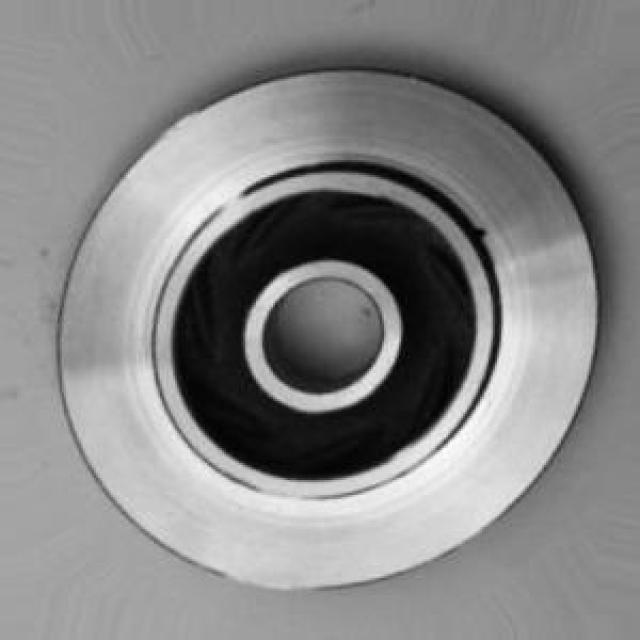Defect: (472, 217, 492, 248)
